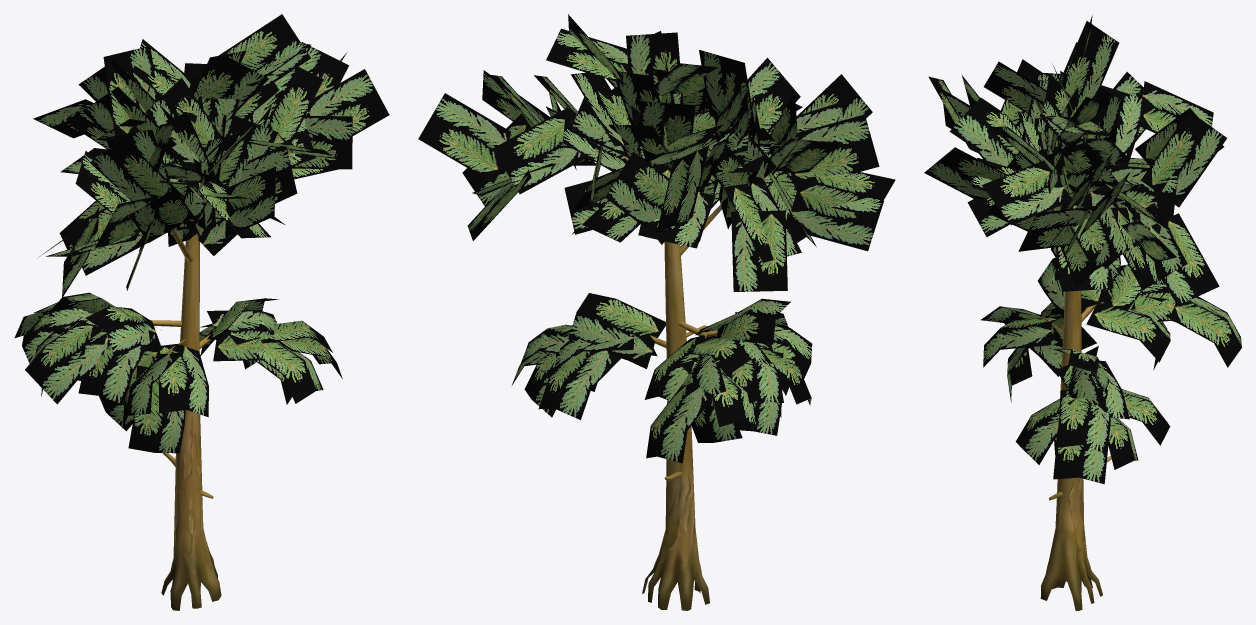
The model's file is Tree3.fbx.
3 renders of one model, left to right at view 1: azimuth 30°, elevation 25°; view 2: azimuth 150°, elevation 25°; view 3: azimuth 270°, elevation 25°, orthographic. The views are drawn at different scales.
Visible parts, largest first — view 1: Circle; view 2: Circle; view 3: Circle.
Boxes of the visible parts, left/top/right/bottom form: Circle: left=14, top=14, right=389, bottom=610; Circle: left=418, top=14, right=895, bottom=610; Circle: left=924, top=15, right=1241, bottom=610.
Bounding box in the file's own units: 330 × 475 × 248.
3 materials, 3 textured.
